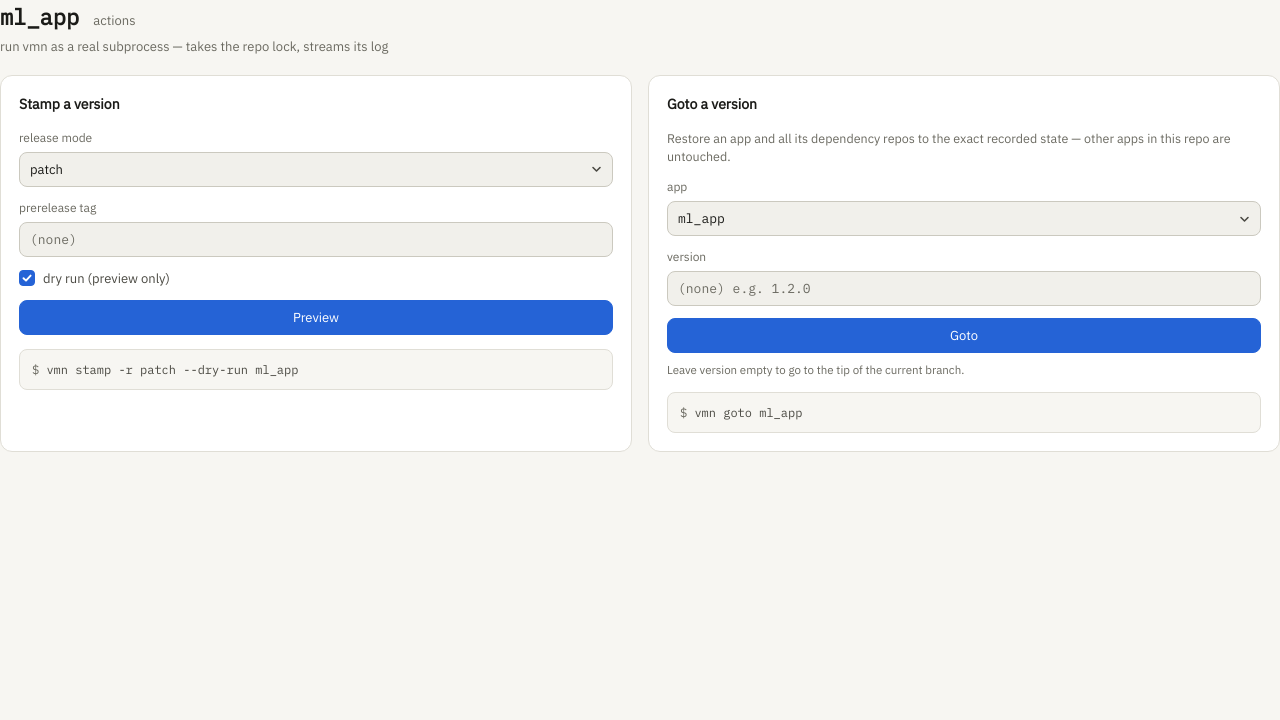
Test: Actions goto confirmation › names the branch tip when the version is empty
This screenshot has width=1280, height=720.
Click the button "Goto". click: (964, 336)
box: x1=667 y1=318 x2=1261 y2=353
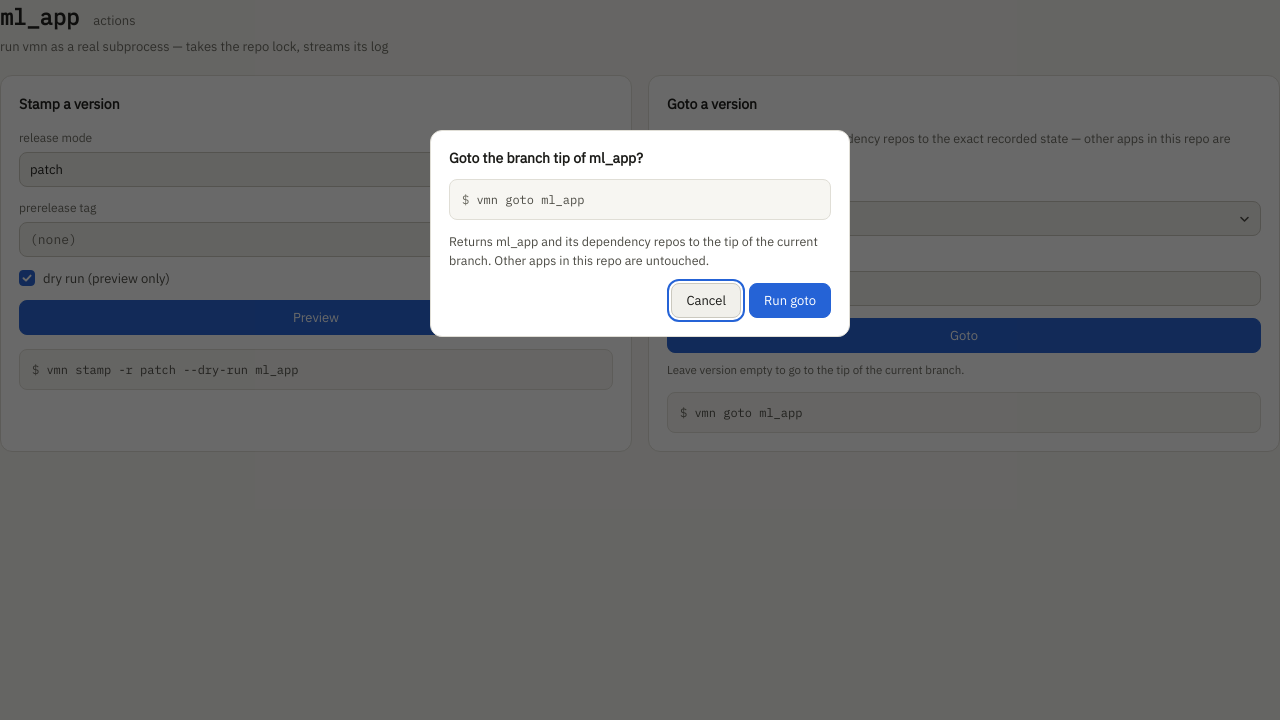
Result: the text "vmn goto ml_app" is shown at x1=449 y1=179 x2=831 y2=220
Result: the text "tip of the current branch" is shown at x1=449 y1=233 x2=818 y2=268
